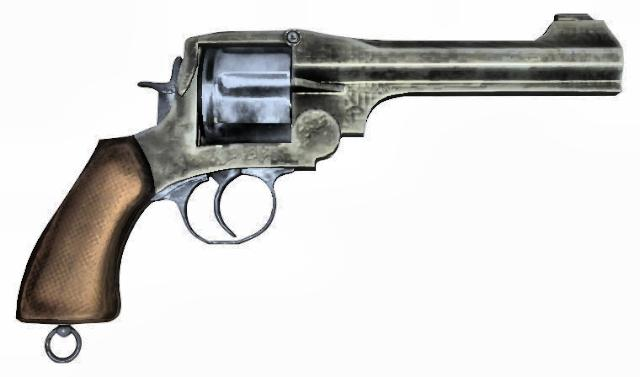pistol: (28, 10, 618, 344)
